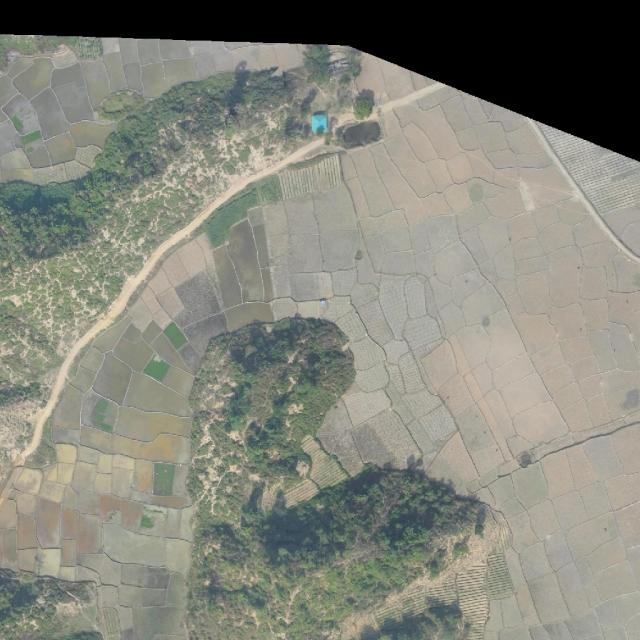agricultural_land: (371, 599, 405, 630), (425, 577, 458, 608), (398, 585, 429, 618)
greenland: (189, 318, 490, 640), (0, 35, 103, 72)
